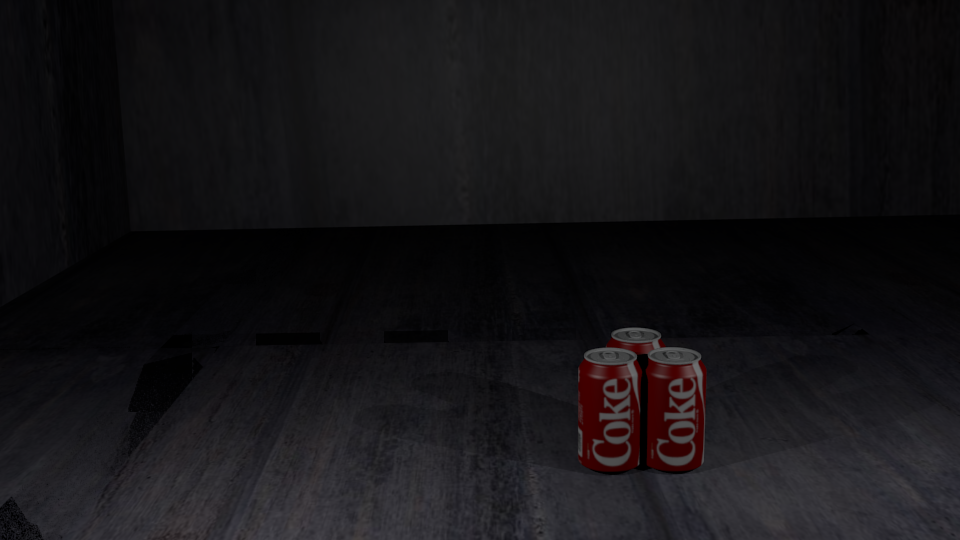cola_can: (642, 348, 705, 467), (579, 348, 641, 468), (607, 328, 665, 441)
